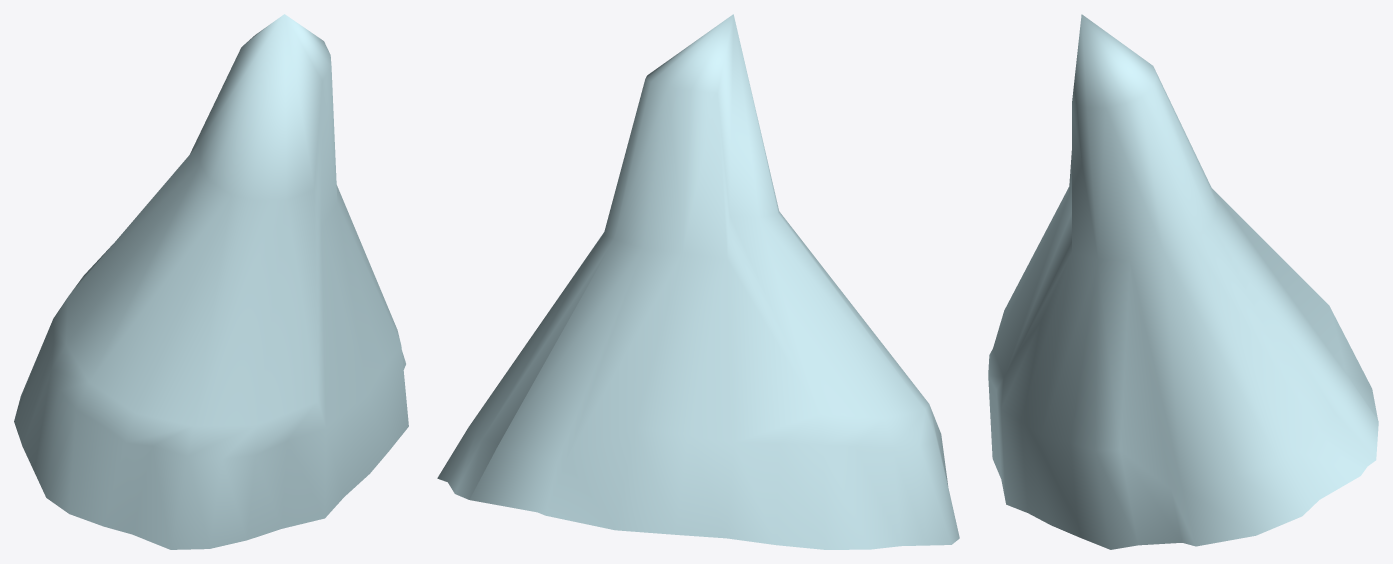
Rendered from iceberg02l.FBX.
The picture shows the model from 3 angles, left to right: view 1: azimuth 30°, elevation 25°; view 2: azimuth 150°, elevation 25°; view 3: azimuth 270°, elevation 25°; orthographic projection. The views are drawn at different scales.
Visible parts, largest first — view 1: Boîte004; view 2: Boîte004; view 3: Boîte004.
Boxes of the visible parts, box(x1,y1,x2,y2) form: Boîte004: box(14, 14, 408, 549); Boîte004: box(437, 14, 959, 549); Boîte004: box(988, 14, 1378, 549).
Bounding box in the file's own units: 209 × 235 × 170.
